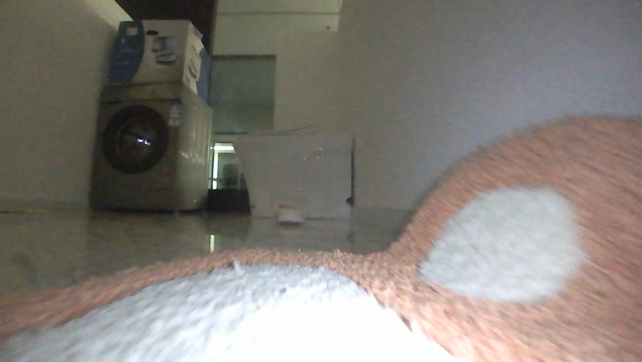shoe: (271, 192, 308, 225)
toilet: (229, 124, 365, 223)
washing_machine: (81, 75, 217, 219)
